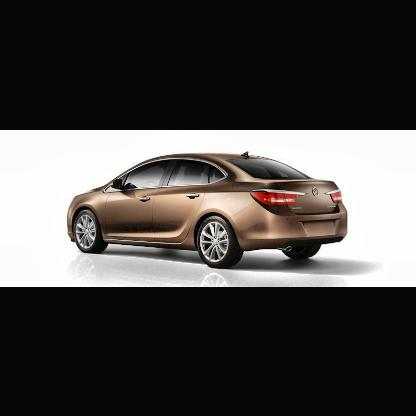Buick Verano Sedan 2012: (69, 152, 349, 270)
